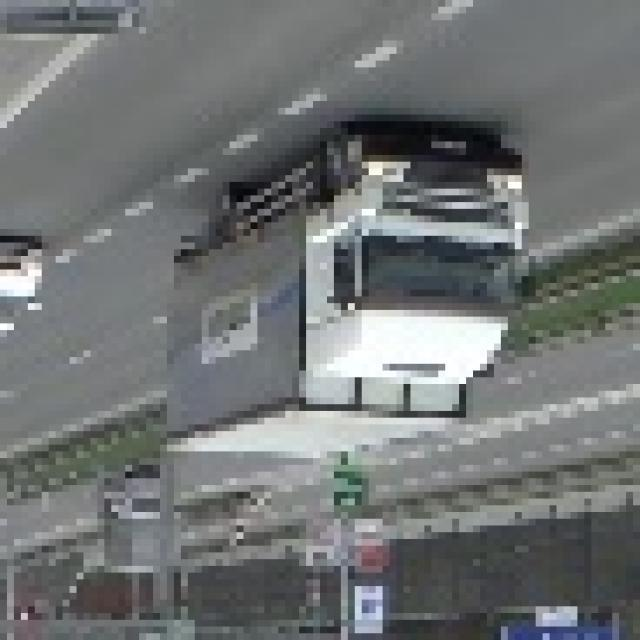truck: (167, 121, 550, 465)
